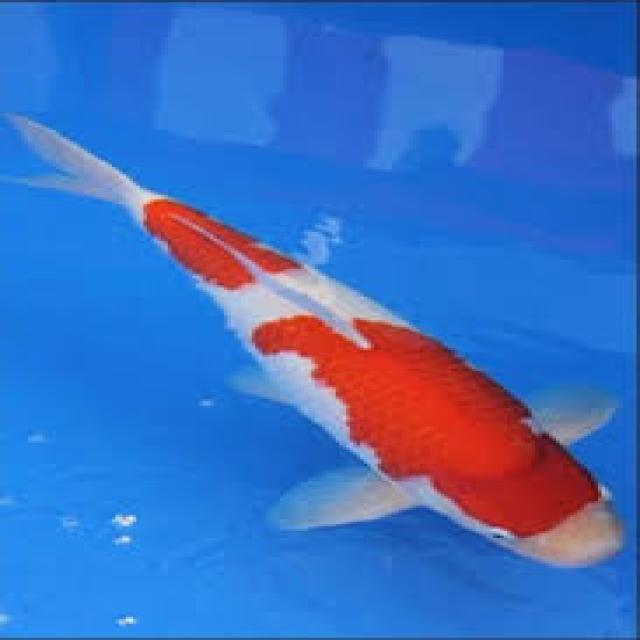Kohaku: (0, 109, 623, 568)
